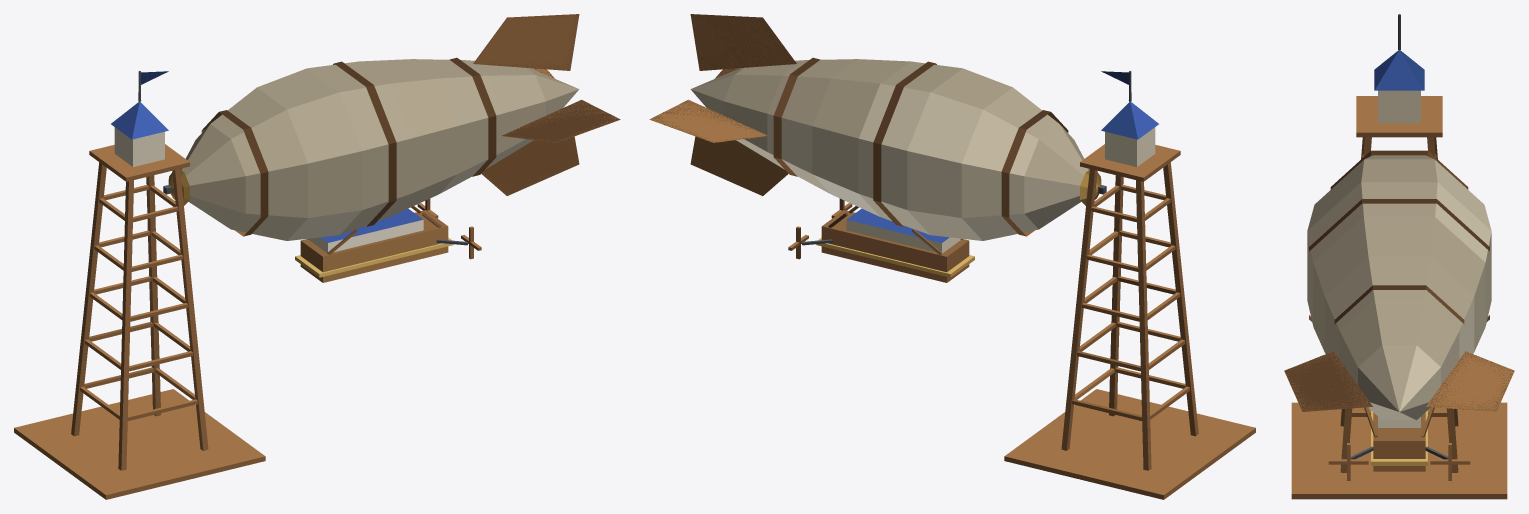
File: landmark-far.glb
3 views of the same model, side by side, from view 1: azimuth 30°, elevation 25°; view 2: azimuth 150°, elevation 25°; view 3: azimuth 270°, elevation 25° (orthographic). The views are drawn at different scales.
Parts seen in each view (by area): view 1: airship-far; view 2: airship-far; view 3: airship-far.
Boxes of the visible parts, x1,y1,x2,y2 form: airship-far: (14,14,620,499); airship-far: (649,14,1255,499); airship-far: (1284,14,1514,499).
Bounding box in the file's own units: 45.6 × 31.5 × 15.
Materials: 1 (1 with a texture image).
